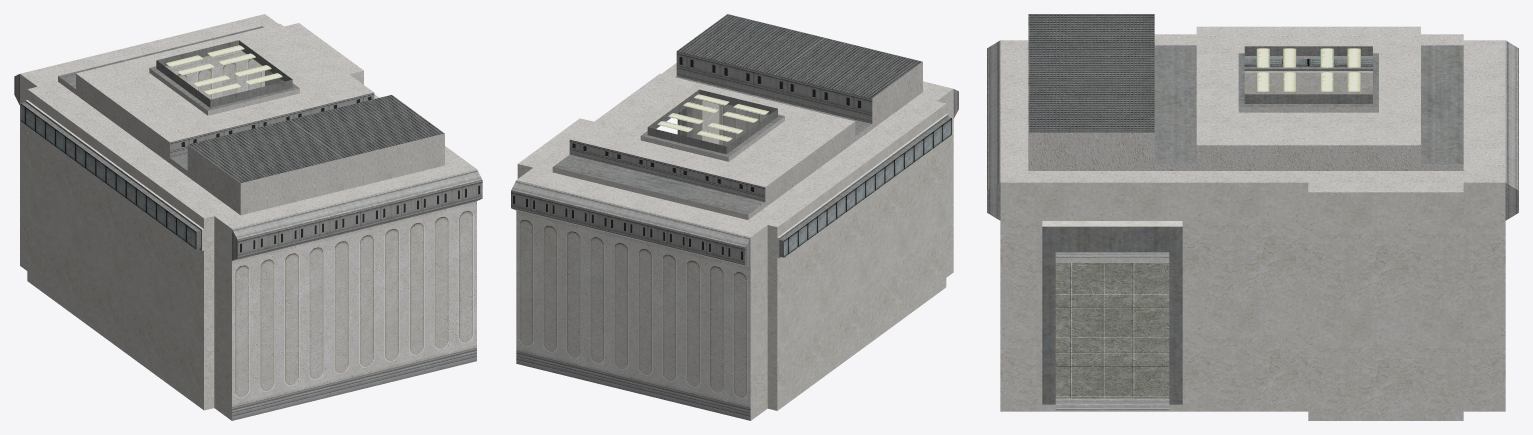
File: ply_corl_house_lg_s02_fp1_r4_room1_mesh_r4.fbx
3 views of the same model, side by side, from view 1: azimuth 30°, elevation 25°; view 2: azimuth 150°, elevation 25°; view 3: azimuth 270°, elevation 25° (orthographic). The views are drawn at different scales.
Parts seen in each view (by area): view 1: mesh_node; view 2: mesh_node; view 3: mesh_node.
Boxes of the visible parts, x1,y1,x2,y2 form: mesh_node: (14,14,482,420); mesh_node: (511,14,958,420); mesh_node: (987,14,1518,420).
Size of the model in its own units: 6.93 by 5.31 by 9.48.
